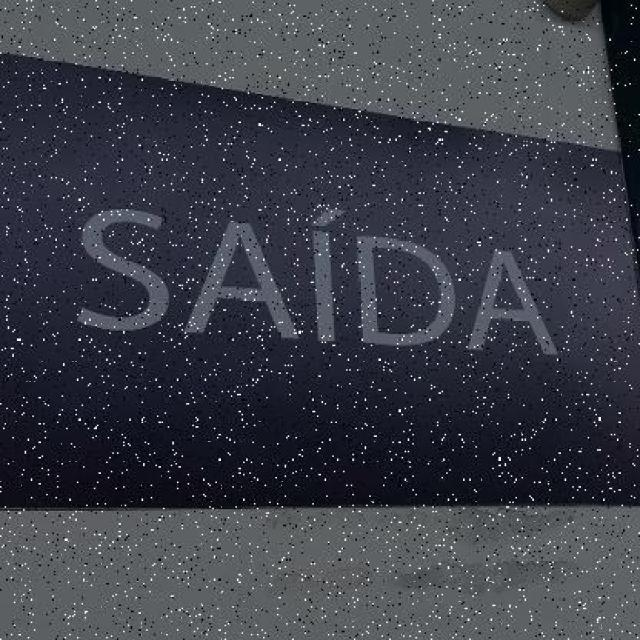emergency_exit: (1, 47, 639, 509)
